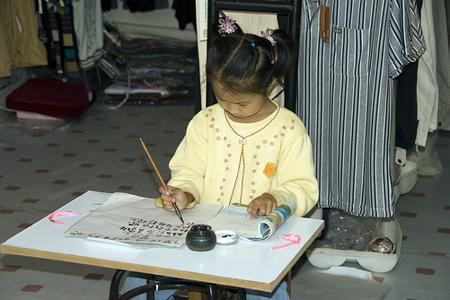person: (157, 19, 321, 218)
